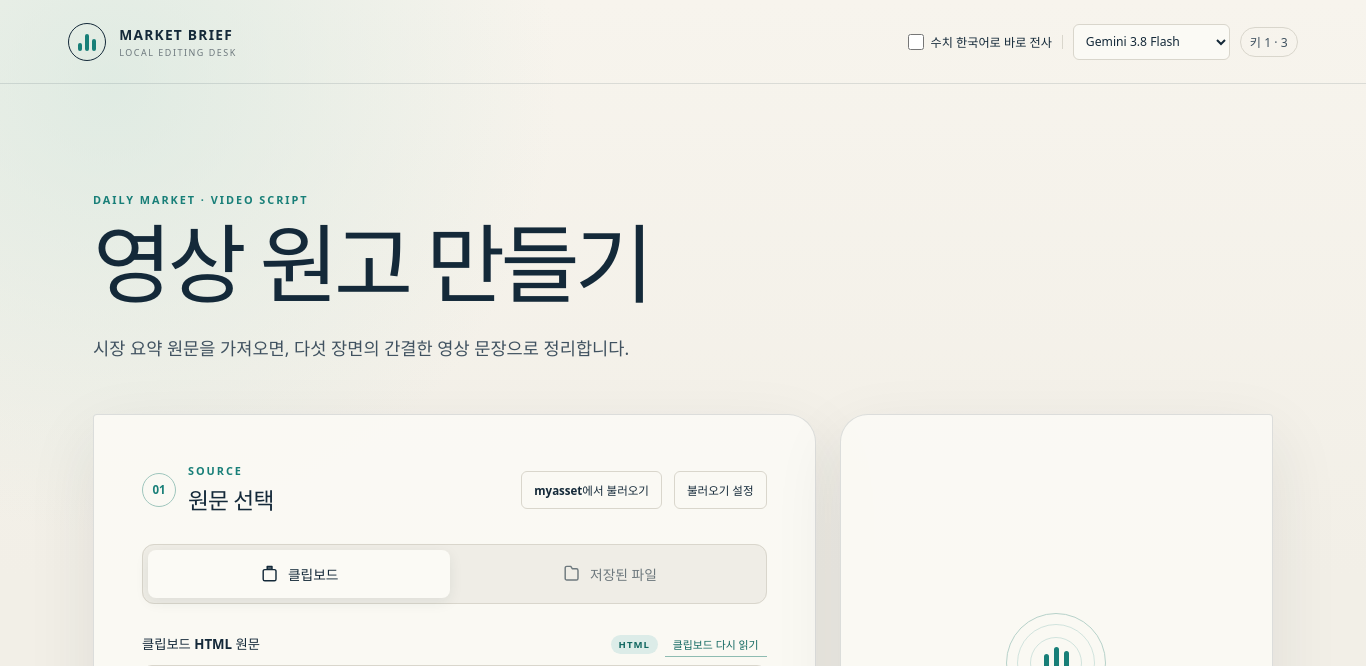
it: App › 시작 모델을 저장해 요청에 전달하고 작업 중에는 변경을 막는다
The image size is (1366, 666).
Expected: the heading "영상 원고 만들기" is shown, [93, 204, 649, 321]
Step 1. Select "Gemini 3.6 Flash" in the dropdown named "시작 모델" → (1151, 42), box [1073, 24, 1230, 60]
(page scrolled)
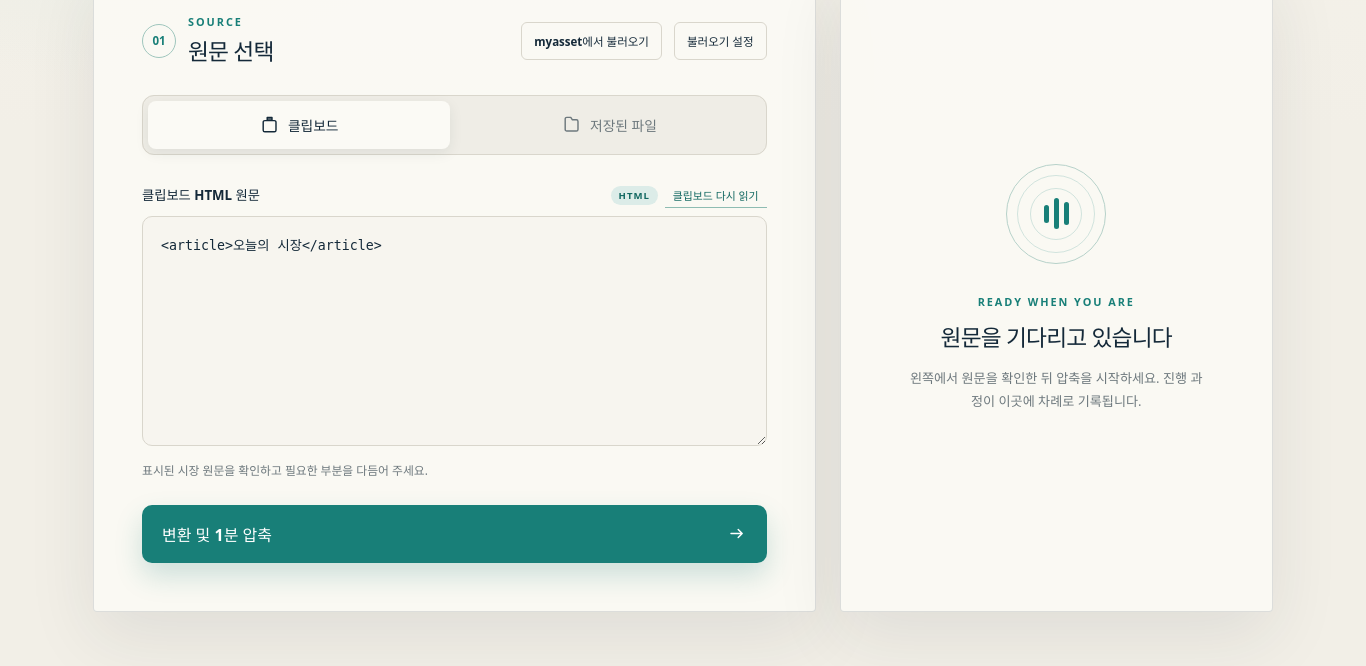
Step 2. Click the button "변환 및 1분 압축" → (217, 535), box [142, 505, 766, 563]
(page scrolled)
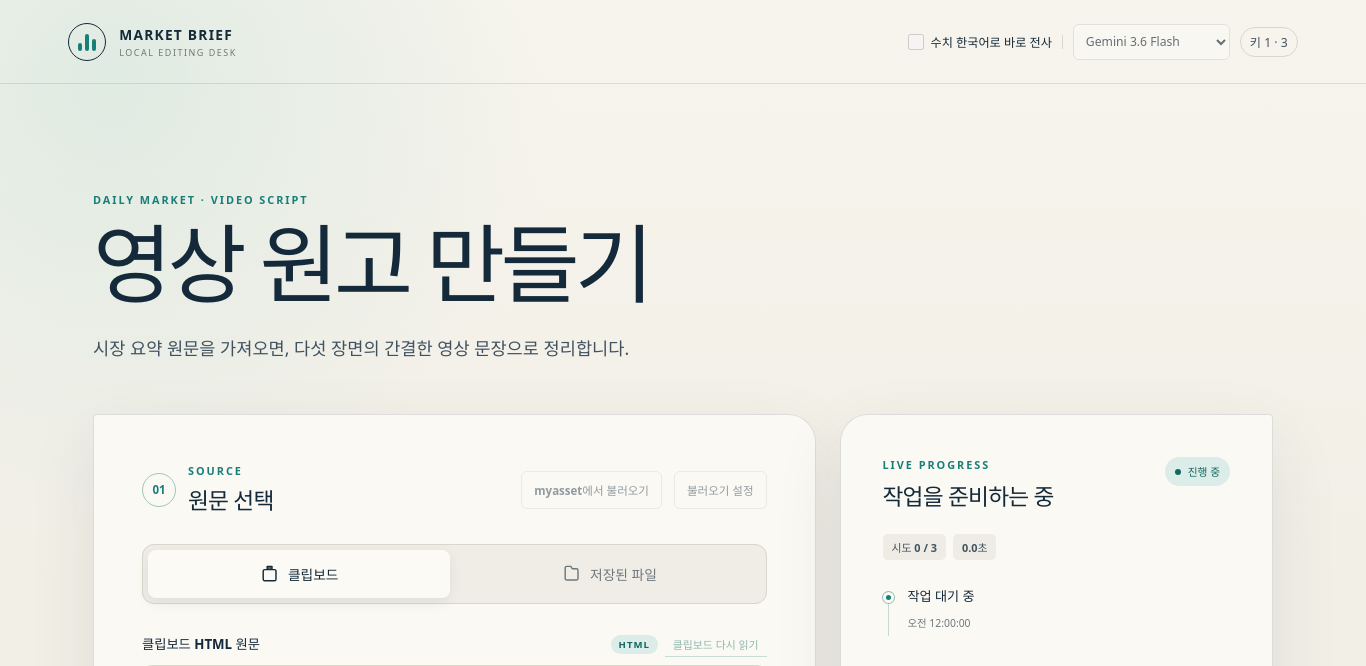
Result: the dropdown named "시작 모델" is disabled at [1073, 24, 1230, 60]
